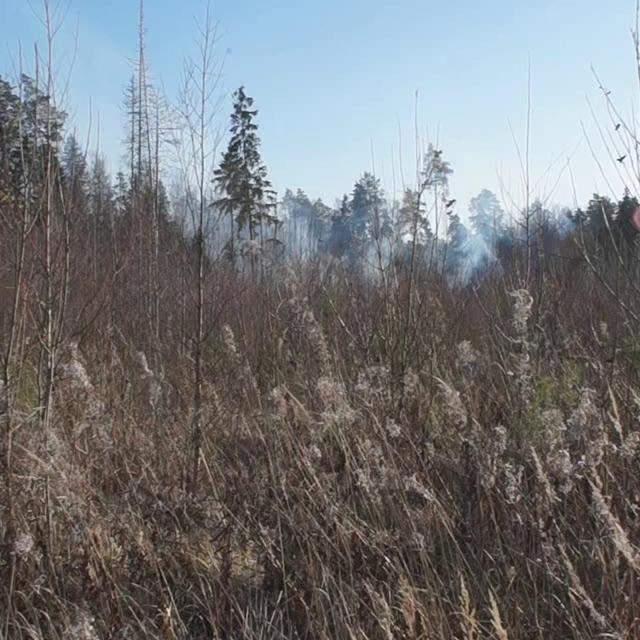Smoke: (148, 154, 548, 310)
